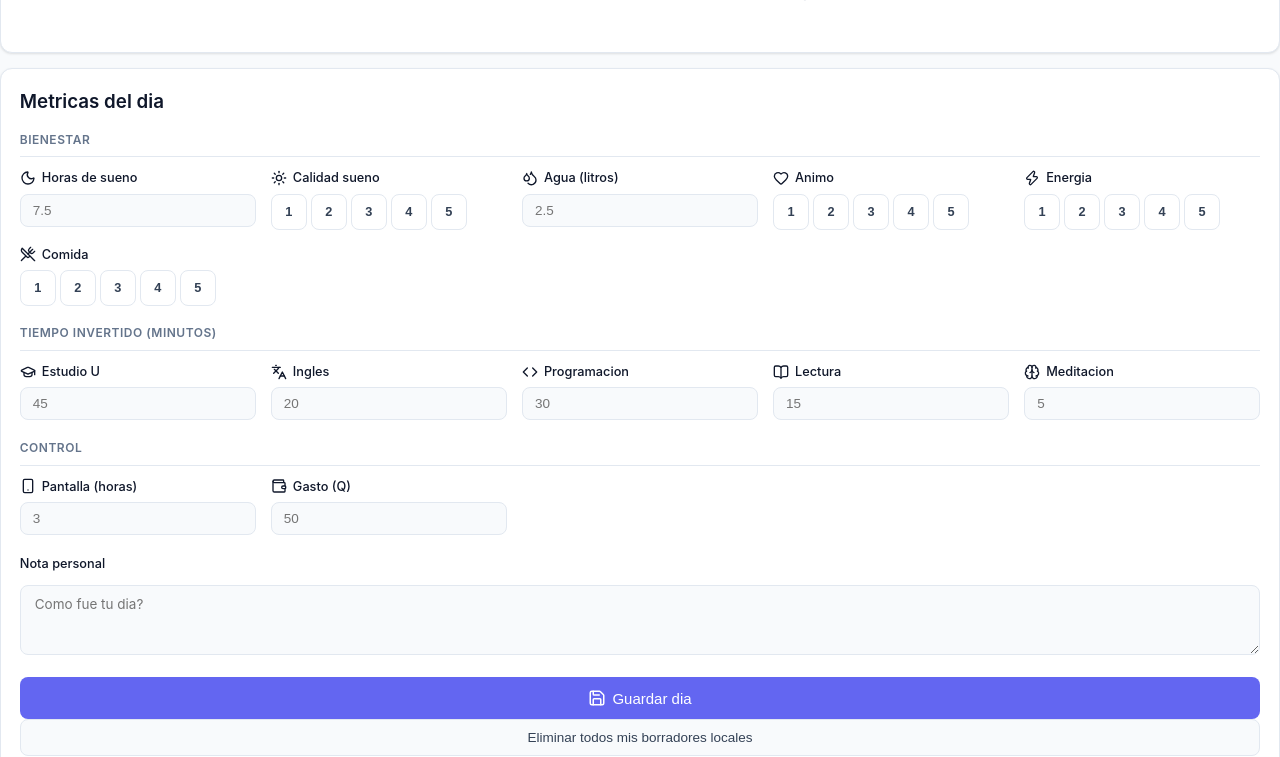
Scenario: Today draft save lifecycle › keeps the draft when saving fails
This screenshot has width=1280, height=757.
(page scrolled)
Type "no perder" into the text box with placeholder "Como fue tu dia?" at coordinates (640, 620), box [20, 585, 1260, 655]
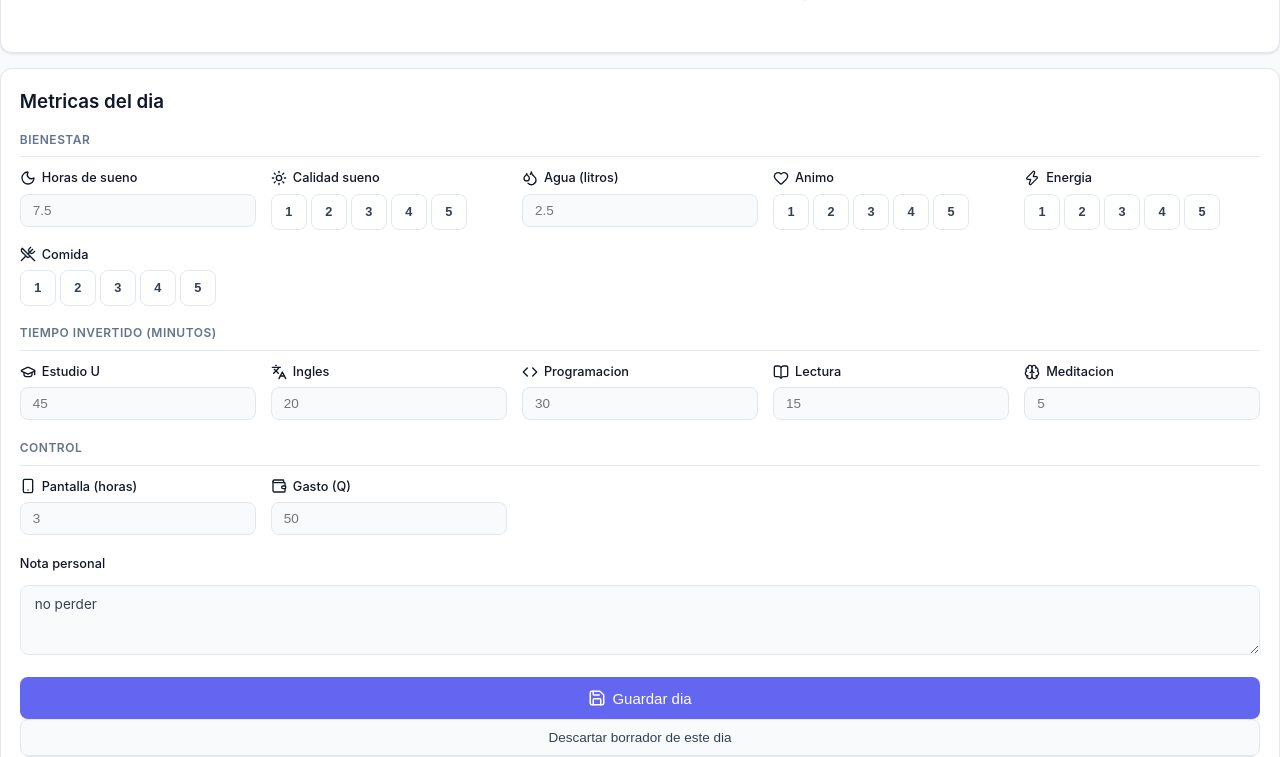
Click the button "Guardar dia" at coordinates (640, 698), box [20, 677, 1260, 719]
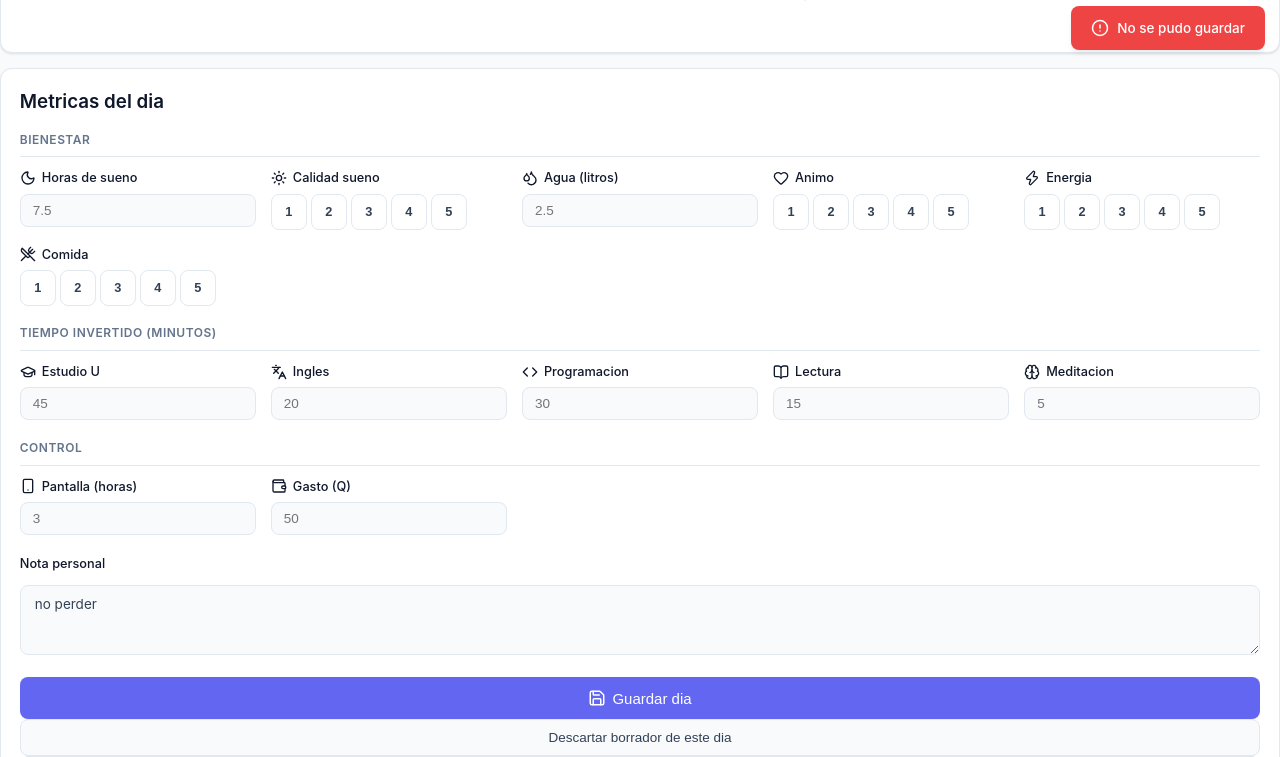
Expected: the text "No se pudo guardar" is shown, [1071, 6, 1265, 50]
